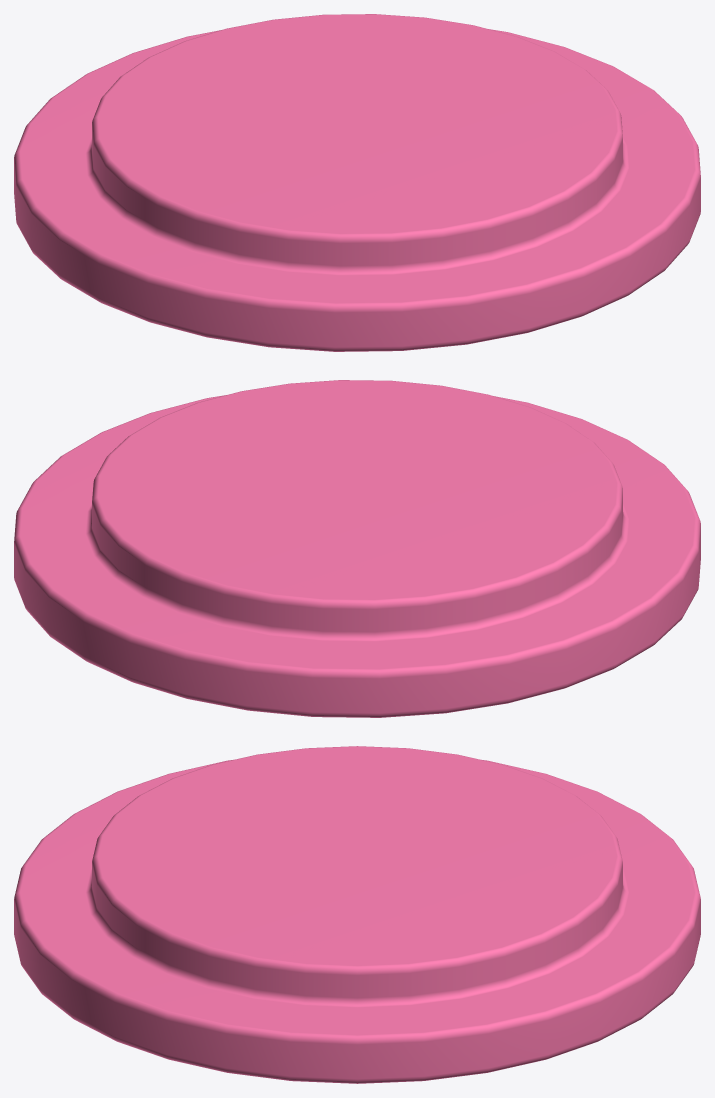
The model's file is stage.glb.
3 renders of one model, top to bottom at view 1: azimuth 30°, elevation 25°; view 2: azimuth 150°, elevation 25°; view 3: azimuth 270°, elevation 25°, orthographic.
Visible parts, largest first — view 1: pCylinder1; view 2: pCylinder1; view 3: pCylinder1.
Part boxes in pixels (box(x1,y1,x2,y2)): pCylinder1: box(14, 14, 700, 351); pCylinder1: box(14, 380, 700, 717); pCylinder1: box(14, 746, 700, 1083).
Bounding box in the file's own units: 3.52 × 0.4776 × 3.52.
